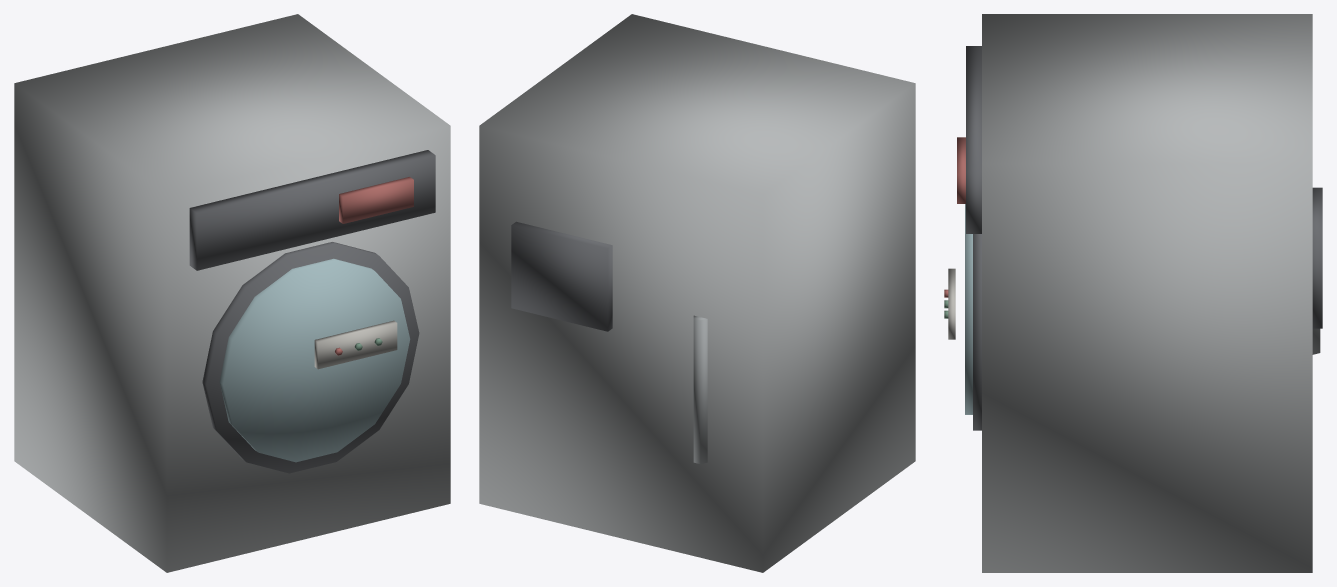
The model's file is industrial_dryer__service.glb.
3 renders of one model, left to right at view 1: azimuth 30°, elevation 25°; view 2: azimuth 150°, elevation 25°; view 3: azimuth 270°, elevation 25°, orthographic. The views are drawn at different scales.
Visible parts, largest first — view 1: world; view 2: world; view 3: world.
Part boxes in pixels (<box>): world: <box>14,14,450,572</box>; world: <box>479,14,915,572</box>; world: <box>944,14,1322,572</box>.
Bounding box in the file's own units: 0.88 × 1.12 × 0.9386.
